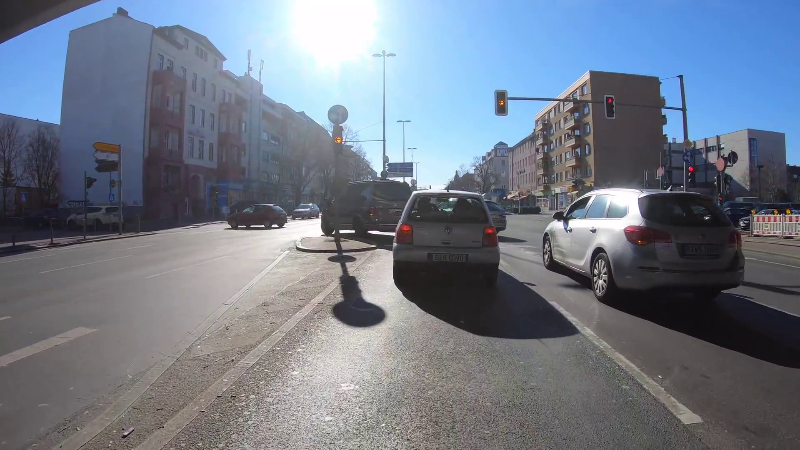Plate: (678, 241, 722, 257), (428, 251, 469, 263)
